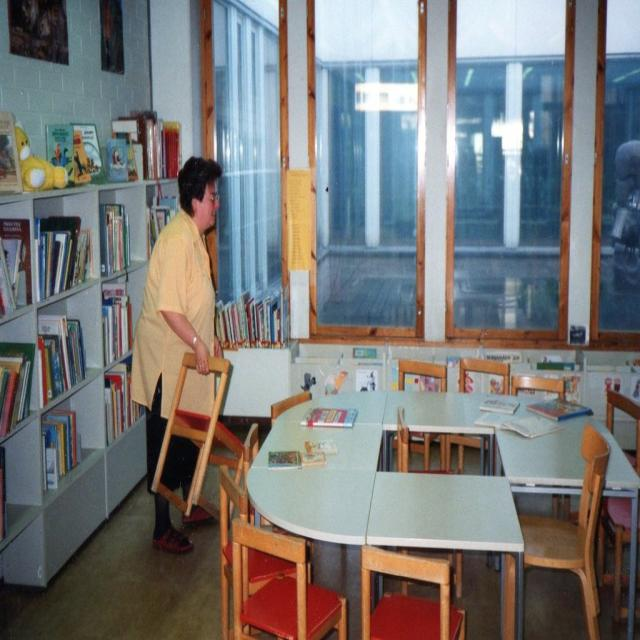chair: (514, 420, 612, 638), (150, 351, 242, 528), (232, 516, 346, 640), (604, 385, 640, 471), (459, 356, 510, 396), (396, 358, 448, 392), (270, 390, 312, 424)
desk: (367, 472, 524, 640)
person: (131, 155, 225, 552)
